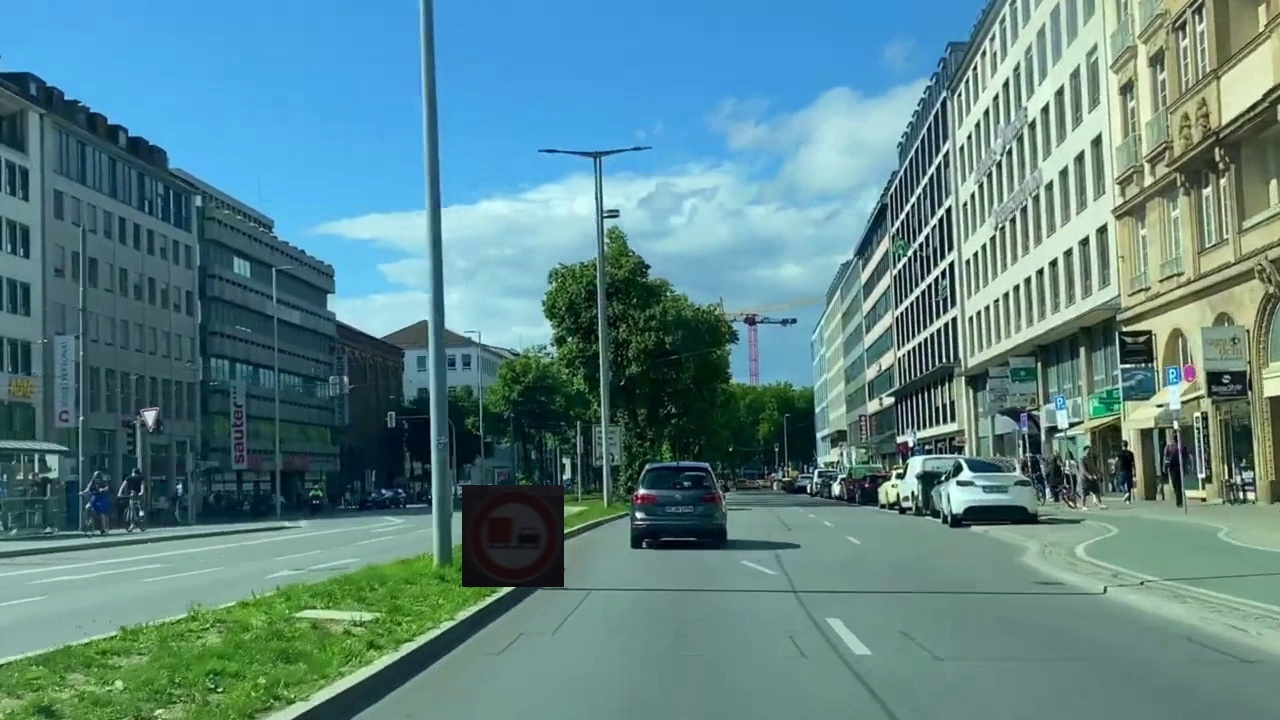No pass >3.5t: (462, 485, 564, 587)
